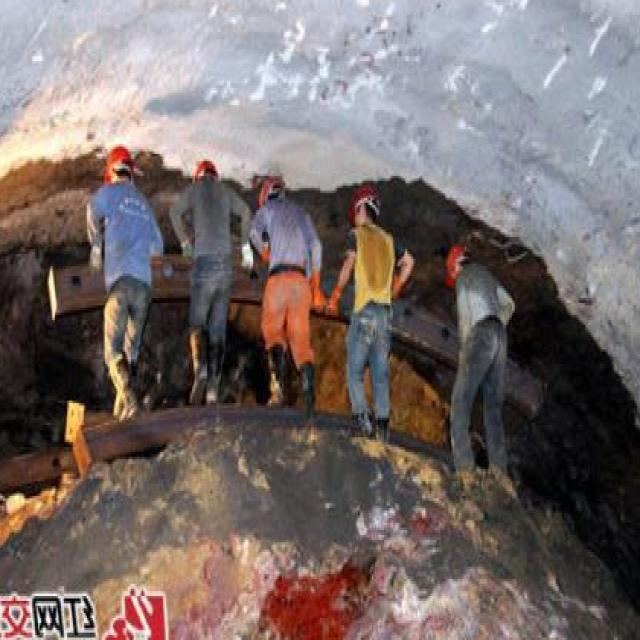helmet: (96, 140, 137, 198), (253, 171, 291, 220), (348, 183, 383, 232), (442, 242, 471, 291), (190, 152, 222, 188)
